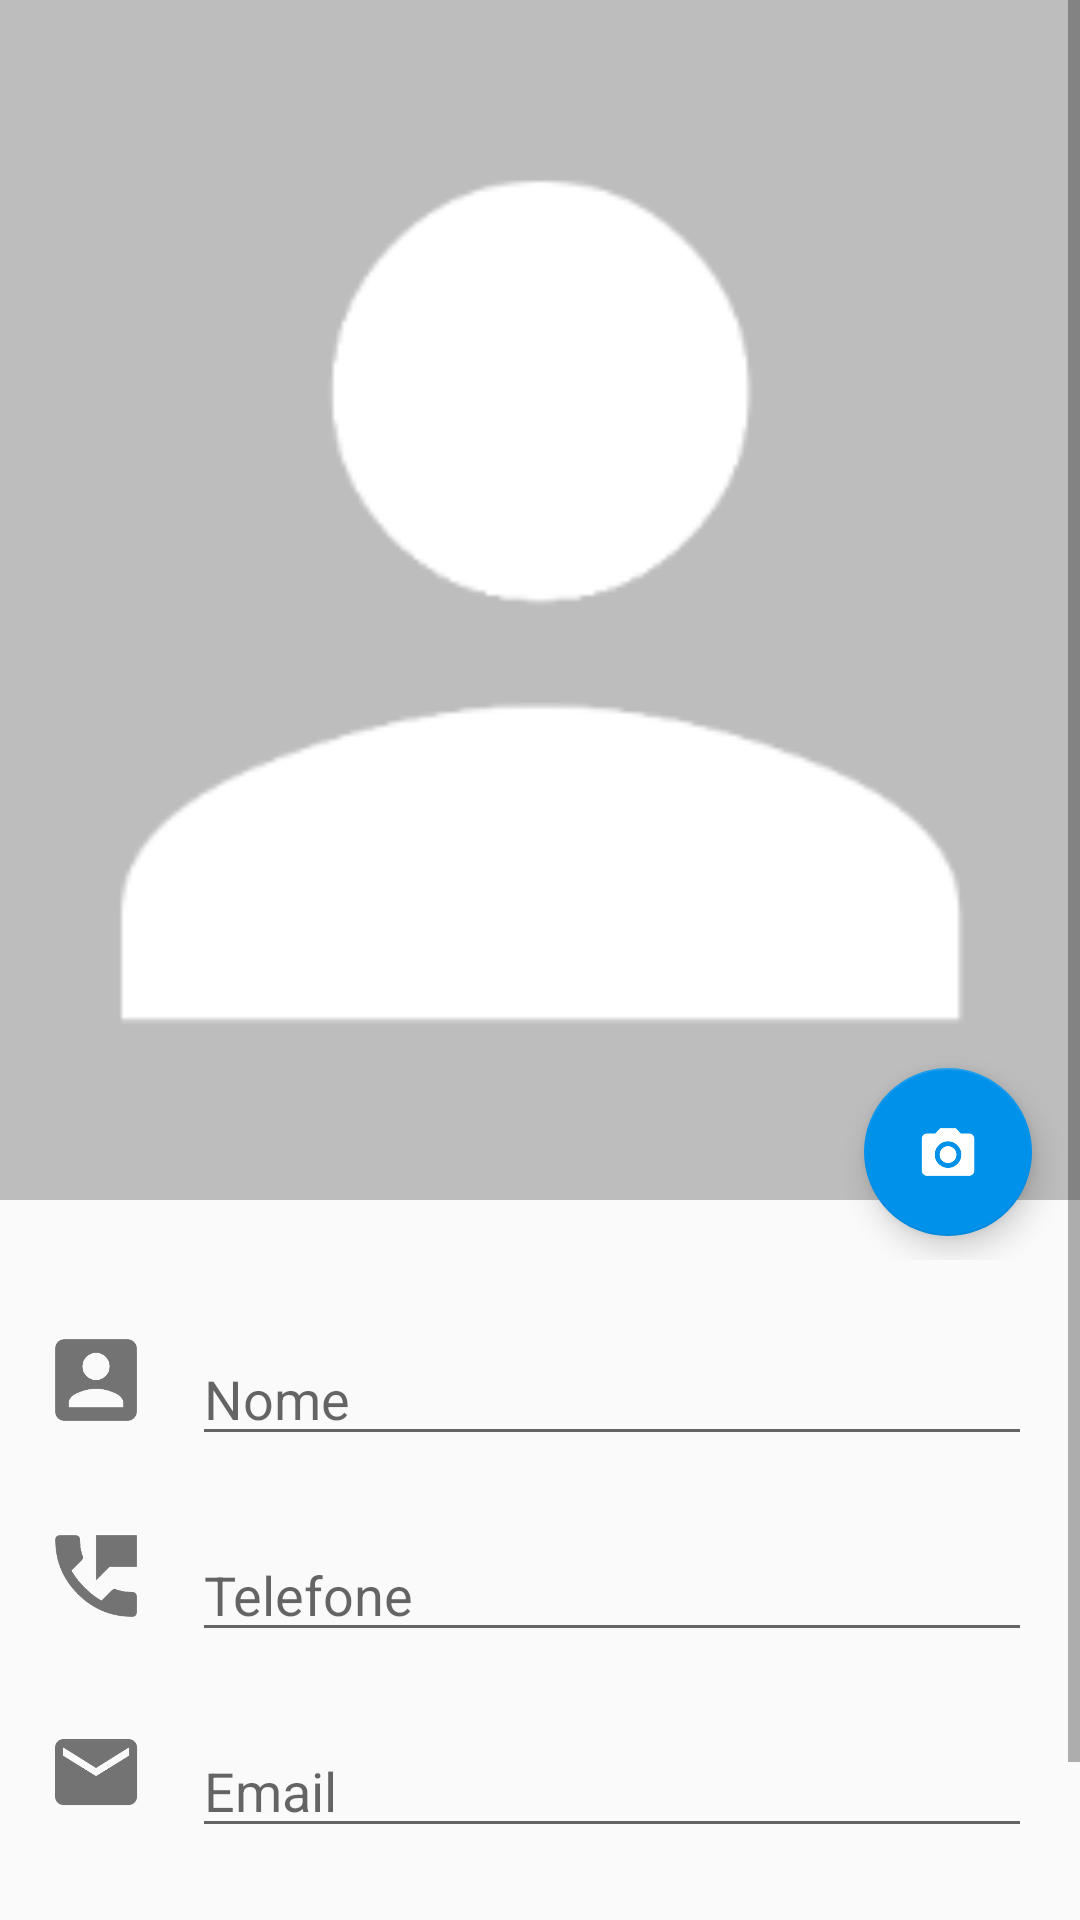

Named icons in this screenshot (1080x1920) and their bounding boxes, {"x1": x1, "y1": y1, "x2": x2, "y2": y2}:
camera: {"x1": 864, "y1": 1068, "x2": 1032, "y2": 1236}
